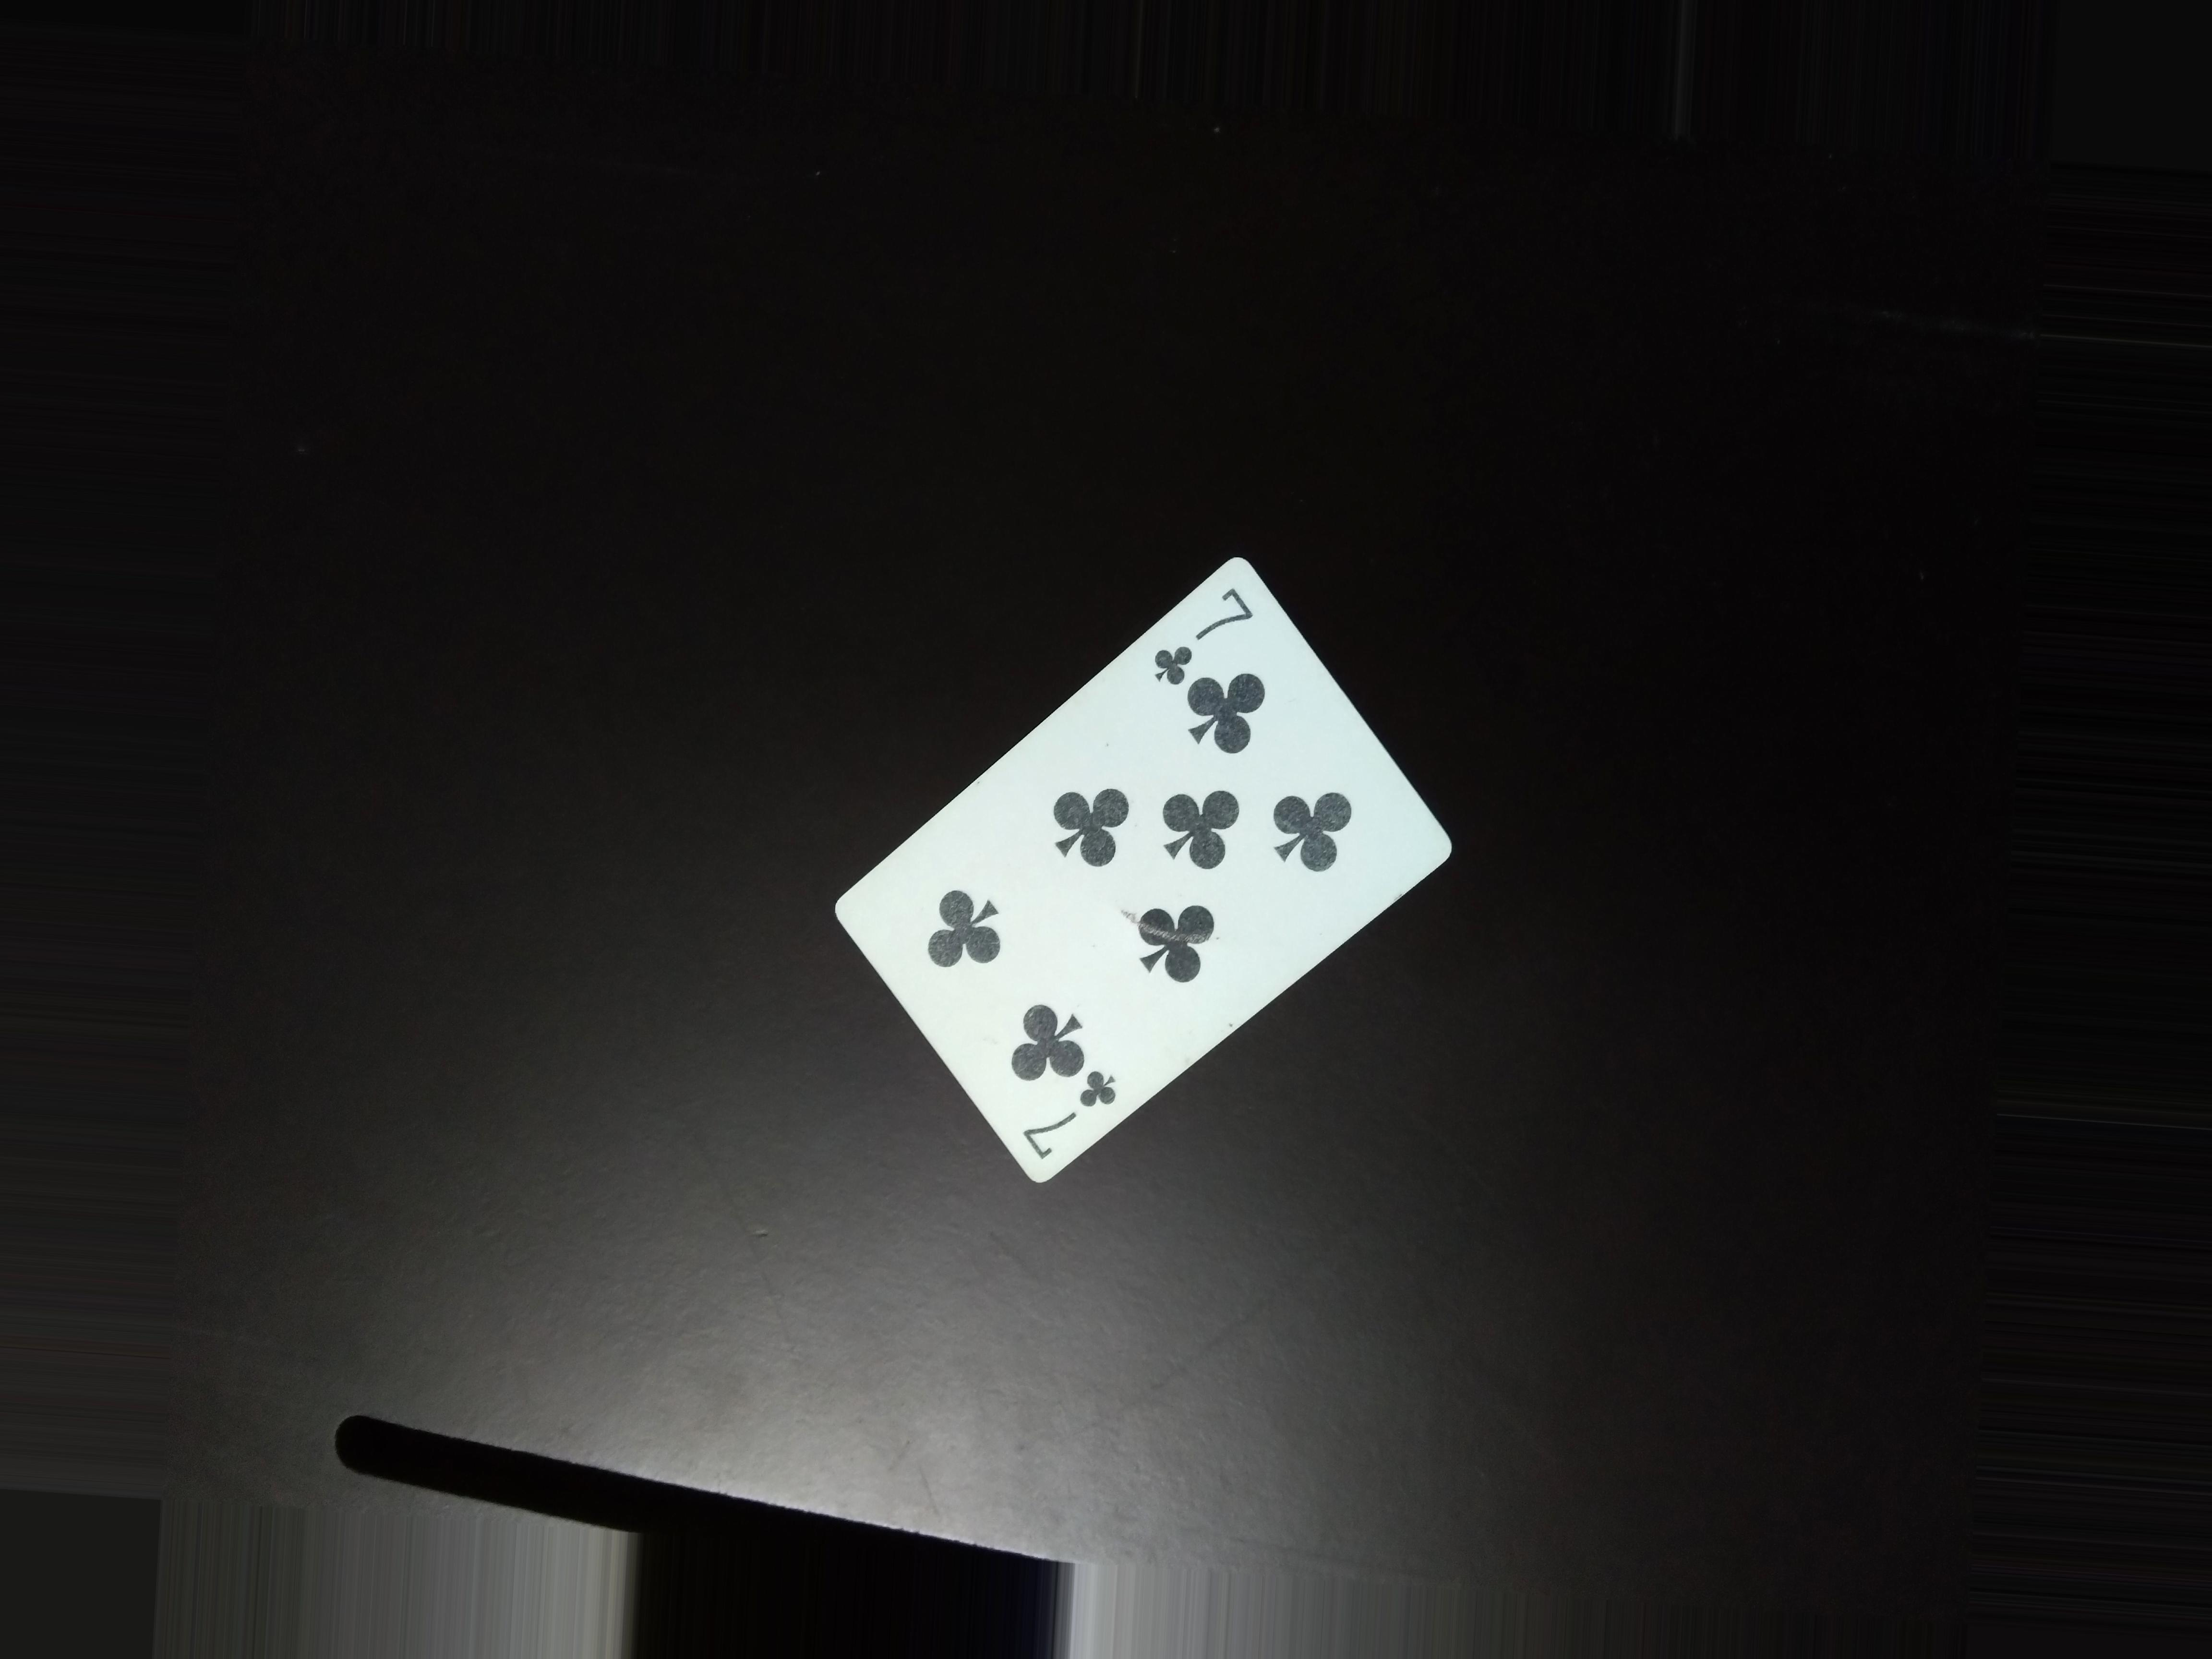7C: (1143, 577, 1256, 687)
